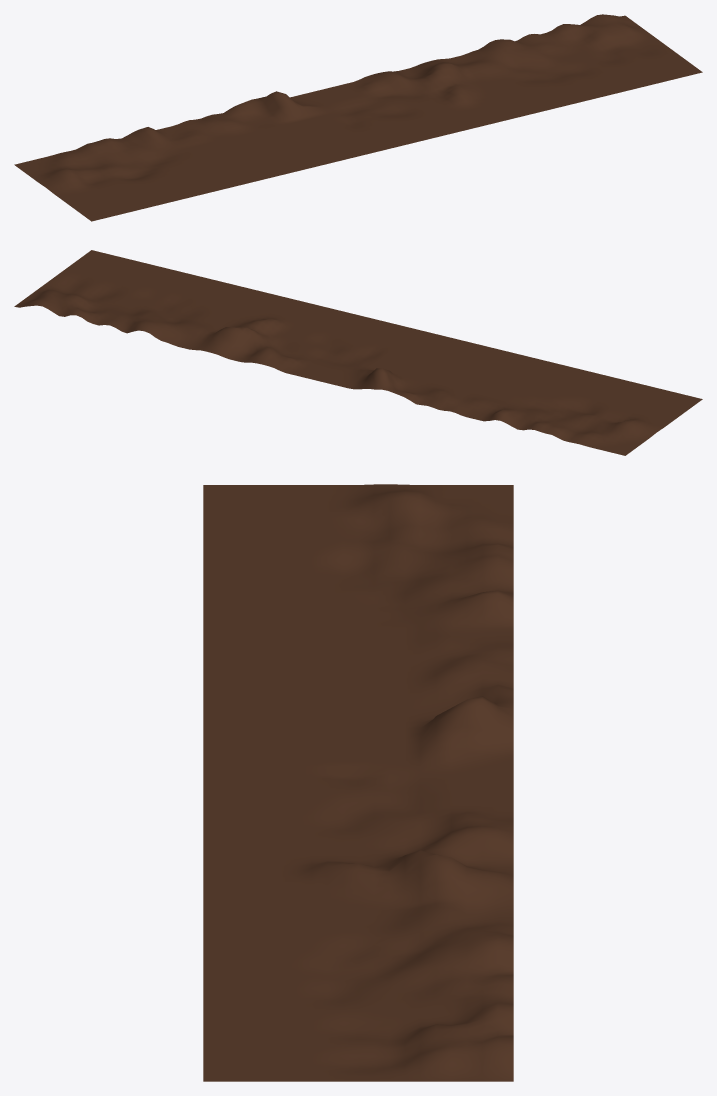
The model's file is env_ground.FBX.
3 renders of one model, top to bottom at view 1: azimuth 30°, elevation 25°; view 2: azimuth 150°, elevation 25°; view 3: azimuth 270°, elevation 25°, orthographic. The views are drawn at different scales.
Parts seen in each view (by area): view 1: env_ground; view 2: env_ground; view 3: env_ground.
Part boxes in pixels (<box>): env_ground: <box>14,14,702,221</box>; env_ground: <box>14,250,702,455</box>; env_ground: <box>203,484,513,1081</box>.
Bounding box in the file's own units: 31.58 × 1.05 × 6.94.
